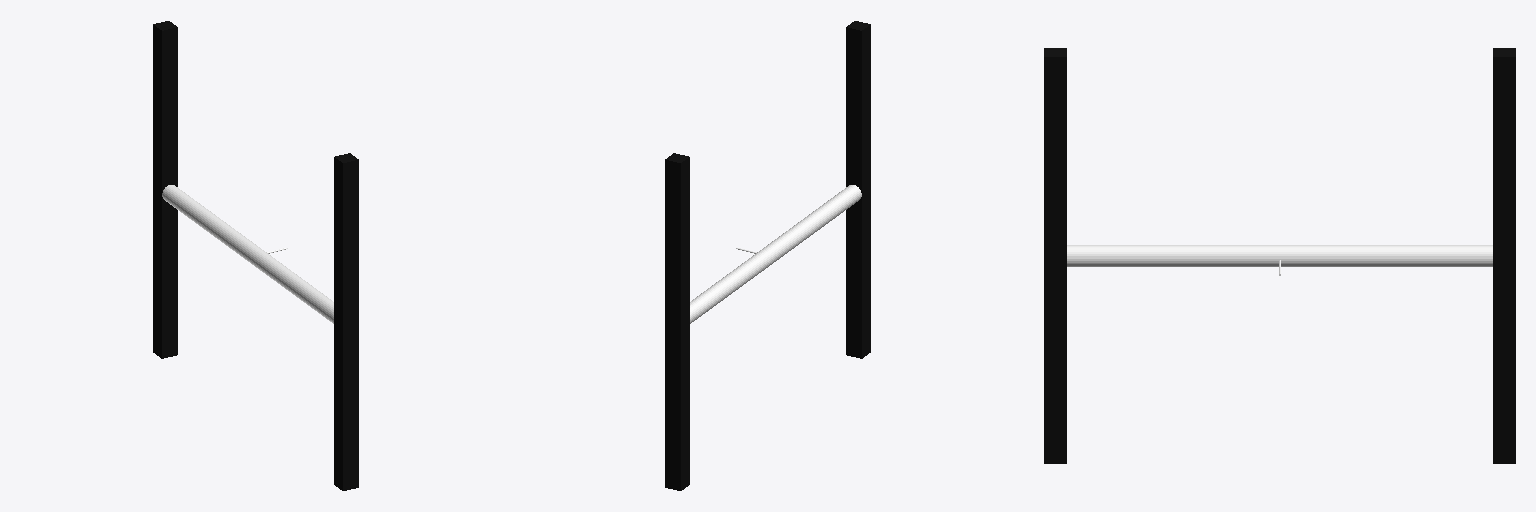
The robot description file, URDF, robot "valve":
<?xml version="1.0"?>
<robot name="valve">
  <link name="valve_base_left_support">
    <visual>
      <geometry>
        <box size="0.1 0.1 2.0"/>
      </geometry>
      <origin rpy="0 0 0" xyz="0 0 0"/>
      <material name="blueish">
	<color rgba="0.1 0.1 0.1 0.5"/>
      </material>
    </visual>
    <collision>
      <geometry>
        <box size="0.1 0.1 2.0"/>
      </geometry>
    </collision>
    <inertial>
      <origin xyz="0 0 0"/>
      <mass value="10"/>
      <inertia ixx="1.0" ixy="0.0" ixz="0.0" iyy="1.0" iyz="0.0" izz="1.0"/>
    </inertial>
  </link>

  <link name="valve_base_right_support">
    <visual>
      <geometry>
        <box size="0.1 0.1 2.0"/>
      </geometry>
      <origin rpy="0 0 0" xyz="0 0 0"/>
      <material name="blueish">
	<color rgba="0.1 0.1 0.1 0.5"/>
      </material>
    </visual>
    <collision>
      <geometry>
        <box size="0.1 0.1 2.0"/>
      </geometry>
    </collision>
    <inertial>
      <origin xyz="0 0 0"/>
      <mass value="10"/>
      <inertia ixx="1.0" ixy="0.0" ixz="0.0" iyy="1.0" iyz="0.0" izz="1.0"/>
    </inertial>
  </link>

  <link name="valve_base_middle_bridge">
    <visual>
      <geometry>
	<cylinder length="2.0" radius="0.05"/>
      </geometry>
      <origin rpy="1.57075 0 0" xyz="0 0 0"/>
      <material name="whiteish">
	<color rgba="1.0 1.0 1.0 1.0"/>
      </material>
    </visual>
    <collision>
      <geometry>
	<cylinder length="2.0" radius="0.05"/>
      </geometry>
      <origin rpy="1.57075 0 0" xyz="0 0 0"/>
    </collision>
    <inertial>
      <origin xyz="0 0 0"/>
      <mass value="0.1"/>
      <inertia ixx="1.0" ixy="0.0" ixz="0.0" iyy="1.0" iyz="0.0" izz="1.0"/>
    </inertial>
  </link>

  <link name="handle">
    <visual>
      <geometry>
	<mesh filename="package://wpi_drc_sim/meshes/valve_models/logitech_driving_force_pro_wheel.dae" scale="0.05 0.05 0.05"/>
      </geometry>
    </visual>
    <collision>
      <geometry>
        <mesh filename="package://wpi_drc_sim/meshes/valve_models/logitech_driving_force_pro_wheel.stl" scale="0.05 0.05 0.05"/>
      </geometry>
    </collision>
    <inertial>
      <origin xyz="0 0 0"/>
      <mass value="0.1"/>
      <inertia ixx="1.0" ixy="0.0" ixz="0.0" iyy="1.0" iyz="0.0" izz="1.0"/>
    </inertial>
  </link>
  
  <link name="rod">
    <visual>
      <geometry>
	<cylinder length="0.2" radius="0.005"/>
      </geometry>
      <origin rpy="0 1.57075 0" xyz="0.1 0 0"/>
      <material name="whiteish">
	<color rgba="1.0 1.0 1.0 1.0"/>
      </material>
    </visual>
    <collision>
      <geometry>
	<cylinder length="0.1" radius="0.005"/>
      </geometry>
      <origin rpy="0 1.57075 0" xyz="0.1 0 0"/>
    </collision>
    <inertial>
      <origin xyz="0 0 0"/>
      <mass value="0.1"/>
      <inertia ixx="1.0" ixy="0.0" ixz="0.0" iyy="1.0" iyz="0.0" izz="1.0"/>
    </inertial>
  </link>

  <joint name="left_support" type="fixed">
    <parent link="valve_base_left_support"/>
    <child link="valve_base_middle_bridge"/>
    <origin xyz="0 1 0"/>
  </joint>
  
  <joint name="right_support" type="fixed">
    <parent link="valve_base_middle_bridge"/>
    <child link="valve_base_right_support"/>
    <origin xyz="0 1 0"/>
  </joint>

  <joint name="body_to_rod" type="fixed">
    <parent link="valve_base_middle_bridge"/>
    <child link="rod"/>
    <origin xyz="0 0 0" rpy="0 0 0"/>
  </joint>

  <joint name="rod_to_handle" type="continuous">
    <parent link="rod"/>
    <child link="handle"/>
    <axis xyz="1 0 0"/>
    <origin xyz="0.2 0 0"/>
  </joint>

  <gazebo reference="valve_base_middle_bridge">
    <material>Gazebo/White</material>
  </gazebo>
</robot>

--- Facts derived from the render (not from the file) ---
Views: 3 orthographic renders of the robot side by side, from view 1: azimuth 30°, elevation 25°; view 2: azimuth 150°, elevation 25°; view 3: azimuth 270°, elevation 25°.
Model valve with 5 links and 4 joints (1 continuous, 3 fixed), rooted at valve_base_left_support, posed all joints at 0.
Visible links, largest first — view 1: valve_base_left_support, valve_base_right_support, valve_base_middle_bridge; view 2: valve_base_right_support, valve_base_left_support, valve_base_middle_bridge; view 3: valve_base_left_support, valve_base_right_support, valve_base_middle_bridge.
Boxes of the visible links, <box> form: valve_base_left_support: <box>334,153,358,490</box>; valve_base_right_support: <box>153,21,177,358</box>; valve_base_middle_bridge: <box>162,185,333,323</box>; valve_base_right_support: <box>665,153,689,490</box>; valve_base_left_support: <box>846,21,870,358</box>; valve_base_middle_bridge: <box>690,185,861,323</box>; valve_base_left_support: <box>1044,48,1066,463</box>; valve_base_right_support: <box>1493,48,1515,463</box>; valve_base_middle_bridge: <box>1067,245,1492,266</box>.
Size in the robot's own frame: 0.25 by 2.1 by 2 metres.
Meshes: 1 distinct files referenced, 0 mesh visuals loaded (none loaded); not drawn: 1 (reference not matched to a file when rendering).